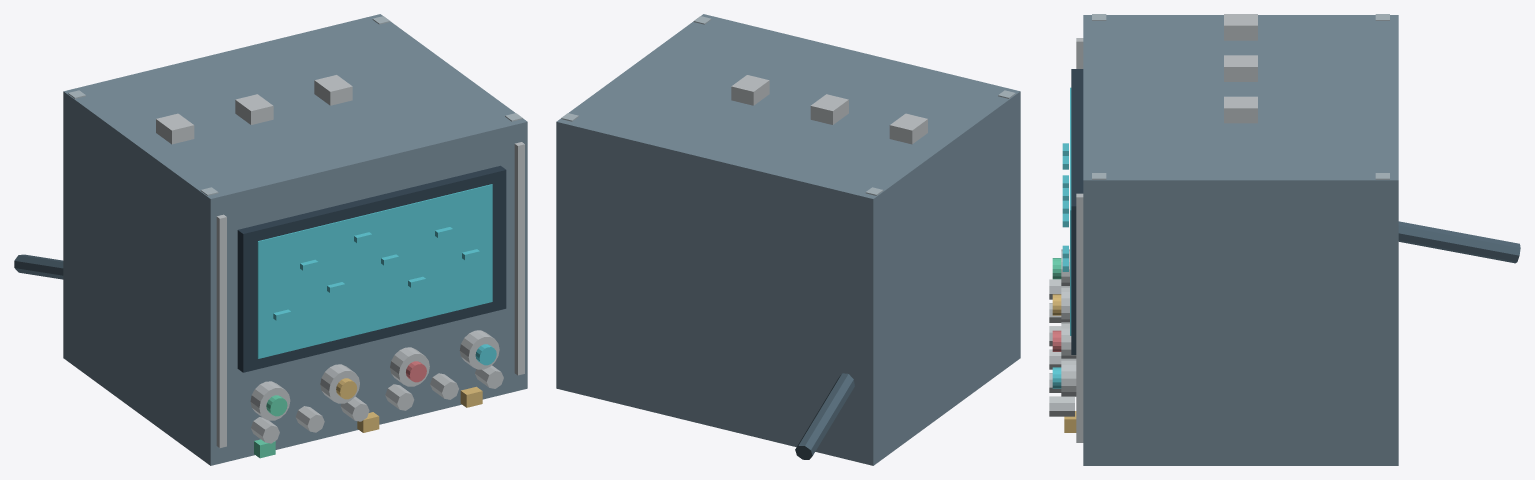
File: 55_L80_ControlledOpticalFaultInjectionModule.glb
The picture shows the model from 3 angles, left to right: view 1: azimuth 30°, elevation 25°; view 2: azimuth 150°, elevation 25°; view 3: azimuth 270°, elevation 25°; orthographic projection. The views are drawn at different scales.
Visible parts, largest first — view 1: ControlledOpticalFaultInjectionModule_Node_0000, ControlledOpticalFaultInjectionModule_Node_0008, ControlledOpticalFaultInjectionModule_Node_0007, ControlledOpticalFaultInjectionModule_Node_0005, ControlledOpticalFaultInjectionModule_Node_0006, ControlledOpticalFaultInjectionModule_Node_0034, ControlledOpticalFaultInjectionModule_Node_0025, ControlledOpticalFaultInjectionModule_Node_0026, ControlledOpticalFaultInjectionModule_Node_0027, ControlledOpticalFaultInjectionModule_Node_0017, ControlledOpticalFaultInjectionModule_Node_0019, ControlledOpticalFaultInjectionModule_Node_0021 (+5 smaller); view 2: ControlledOpticalFaultInjectionModule_Node_0000, ControlledOpticalFaultInjectionModule_Node_0034, ControlledOpticalFaultInjectionModule_Node_0025, ControlledOpticalFaultInjectionModule_Node_0027, ControlledOpticalFaultInjectionModule_Node_0026; view 3: ControlledOpticalFaultInjectionModule_Node_0000, ControlledOpticalFaultInjectionModule_Node_0007, ControlledOpticalFaultInjectionModule_Node_0034, ControlledOpticalFaultInjectionModule_Node_0006, ControlledOpticalFaultInjectionModule_Node_0027, ControlledOpticalFaultInjectionModule_Node_0025, ControlledOpticalFaultInjectionModule_Node_0026, ControlledOpticalFaultInjectionModule_Node_0023, ControlledOpticalFaultInjectionModule_Node_0033, ControlledOpticalFaultInjectionModule_Node_0008.
Boxes of the visible parts, box(x1,y1,x2,y2) form: ControlledOpticalFaultInjectionModule_Node_0000: box(63, 14, 527, 465); ControlledOpticalFaultInjectionModule_Node_0008: box(257, 184, 492, 358); ControlledOpticalFaultInjectionModule_Node_0007: box(237, 165, 506, 372); ControlledOpticalFaultInjectionModule_Node_0005: box(216, 214, 226, 447); ControlledOpticalFaultInjectionModule_Node_0006: box(514, 142, 524, 375); ControlledOpticalFaultInjectionModule_Node_0034: box(14, 254, 63, 279); ControlledOpticalFaultInjectionModule_Node_0025: box(156, 113, 194, 144); ControlledOpticalFaultInjectionModule_Node_0026: box(235, 94, 273, 124); ControlledOpticalFaultInjectionModule_Node_0027: box(314, 75, 352, 105); ControlledOpticalFaultInjectionModule_Node_0017: box(250, 381, 290, 420); ControlledOpticalFaultInjectionModule_Node_0019: box(320, 364, 359, 403); ControlledOpticalFaultInjectionModule_Node_0021: box(390, 347, 429, 386); ControlledOpticalFaultInjectionModule_Node_0000: box(556, 14, 1020, 465); ControlledOpticalFaultInjectionModule_Node_0034: box(795, 373, 854, 459); ControlledOpticalFaultInjectionModule_Node_0025: box(889, 113, 927, 144); ControlledOpticalFaultInjectionModule_Node_0027: box(731, 75, 769, 105); ControlledOpticalFaultInjectionModule_Node_0026: box(810, 94, 848, 124); ControlledOpticalFaultInjectionModule_Node_0000: box(1083, 15, 1398, 465); ControlledOpticalFaultInjectionModule_Node_0007: box(1071, 69, 1083, 354); ControlledOpticalFaultInjectionModule_Node_0034: box(1398, 221, 1520, 263); ControlledOpticalFaultInjectionModule_Node_0006: box(1076, 193, 1083, 442); ControlledOpticalFaultInjectionModule_Node_0027: box(1224, 96, 1257, 123); ControlledOpticalFaultInjectionModule_Node_0025: box(1224, 14, 1257, 40); ControlledOpticalFaultInjectionModule_Node_0026: box(1224, 55, 1257, 81); ControlledOpticalFaultInjectionModule_Node_0023: box(1061, 358, 1076, 396); ControlledOpticalFaultInjectionModule_Node_0033: box(1049, 396, 1074, 416); ControlledOpticalFaultInjectionModule_Node_0008: box(1070, 87, 1071, 335).
Size of the model in its own units: 0.92 by 0.8711 by 1.11.
